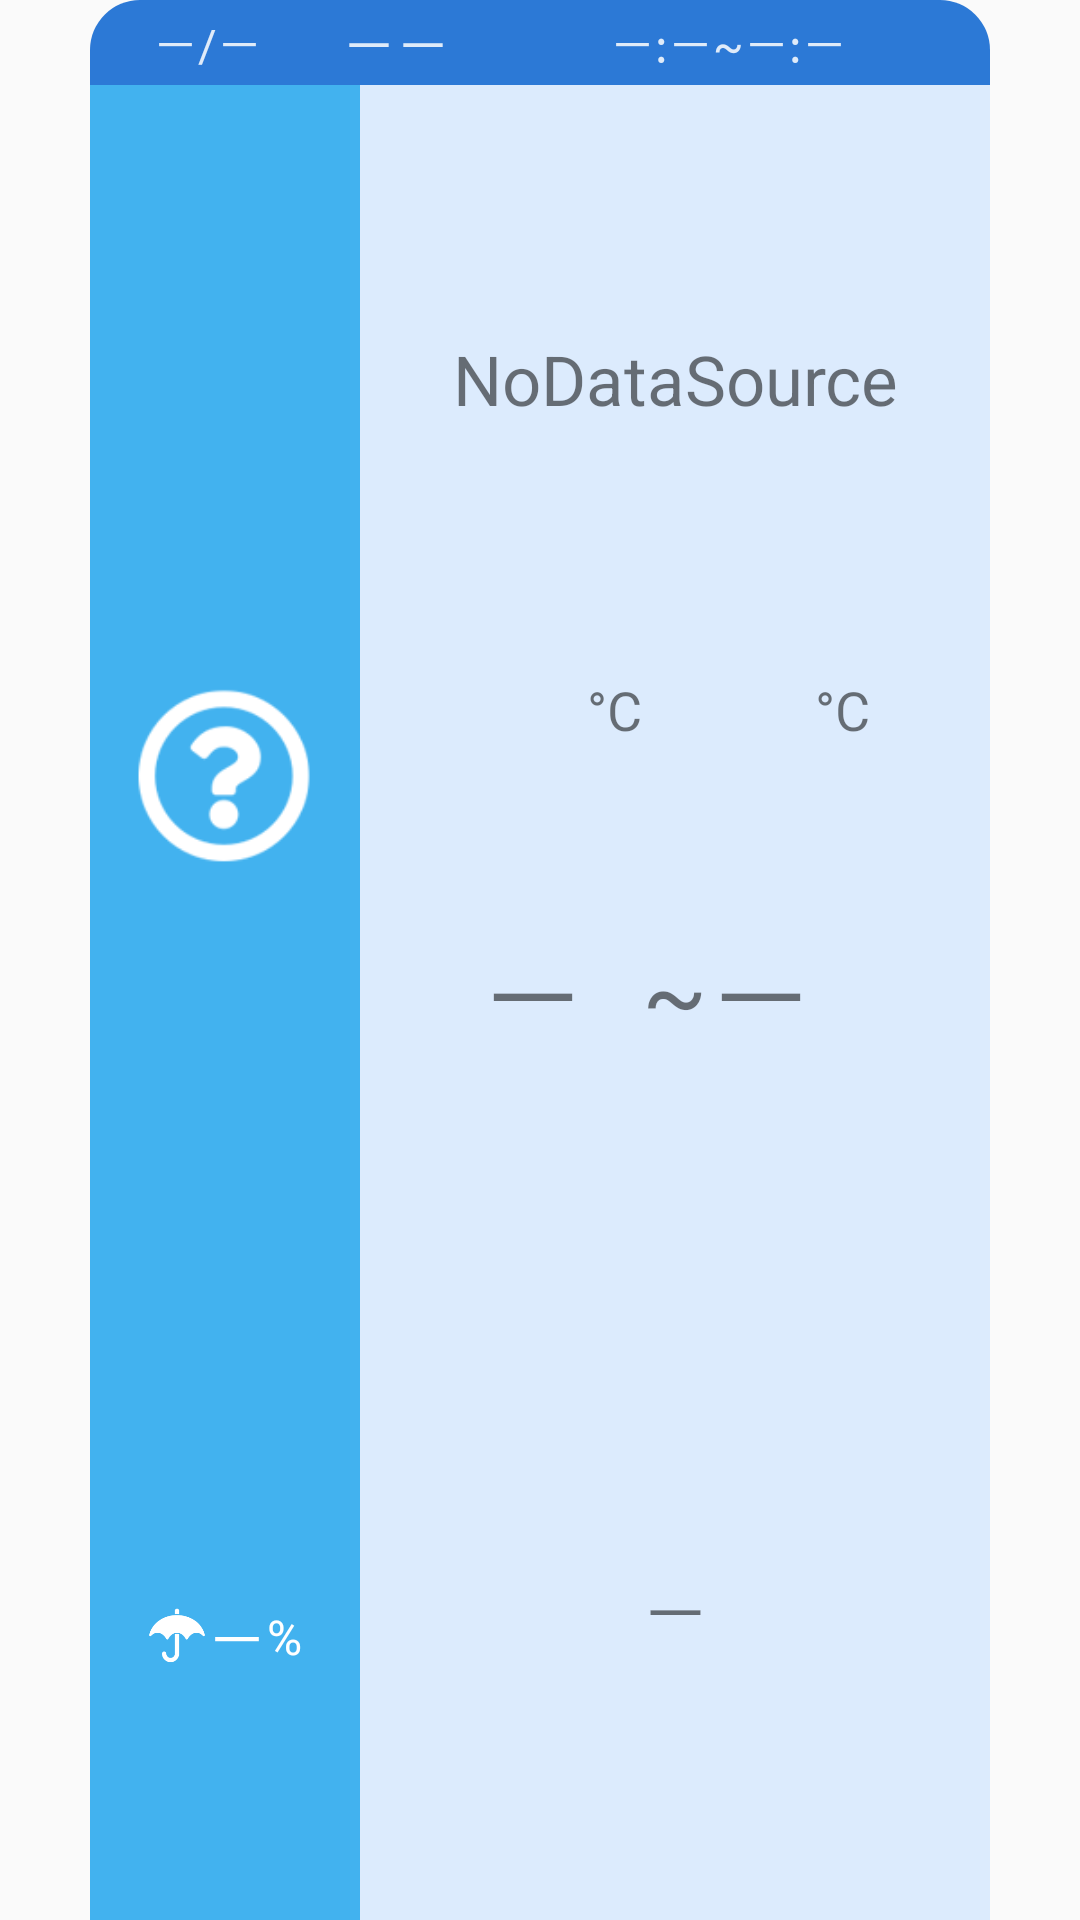

Icons on this 1080px×1920px Android screen, each with its box as (x1, y1, x2, y2):
umbrella: (149, 1608, 205, 1662)
